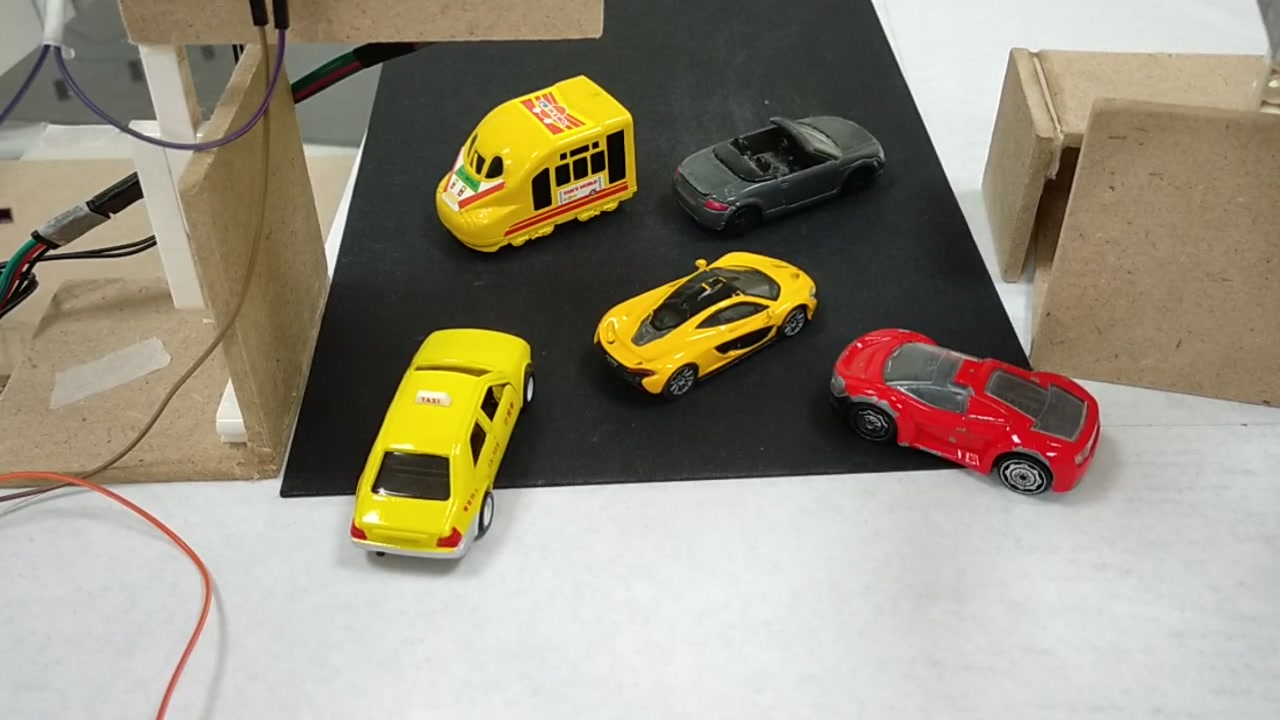car: (830, 324, 1103, 506), (344, 341, 536, 563), (595, 262, 830, 392), (666, 118, 885, 235)
